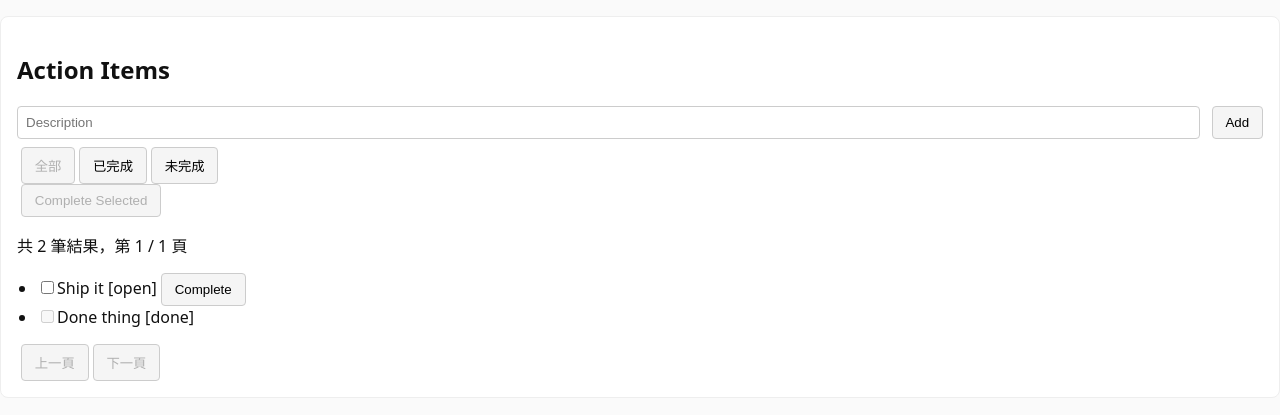
Test: ActionItemsSection › refetches with the completed filter when toggling filter buttons
Check: the list item "Ship it [open] Complete" is shown, box [41,273,246,306]
Click the button "已完成".
click(113, 165)  # box [79,147,147,184]
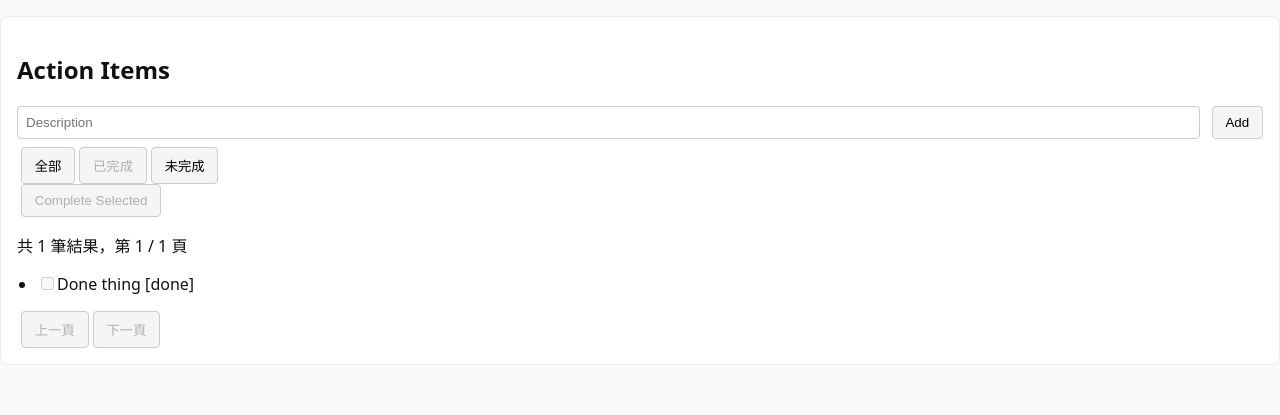
Check: the list item "Done thing [done]" is shown, box [41,273,194,295]
Check: the list item "Ship it" is gone
